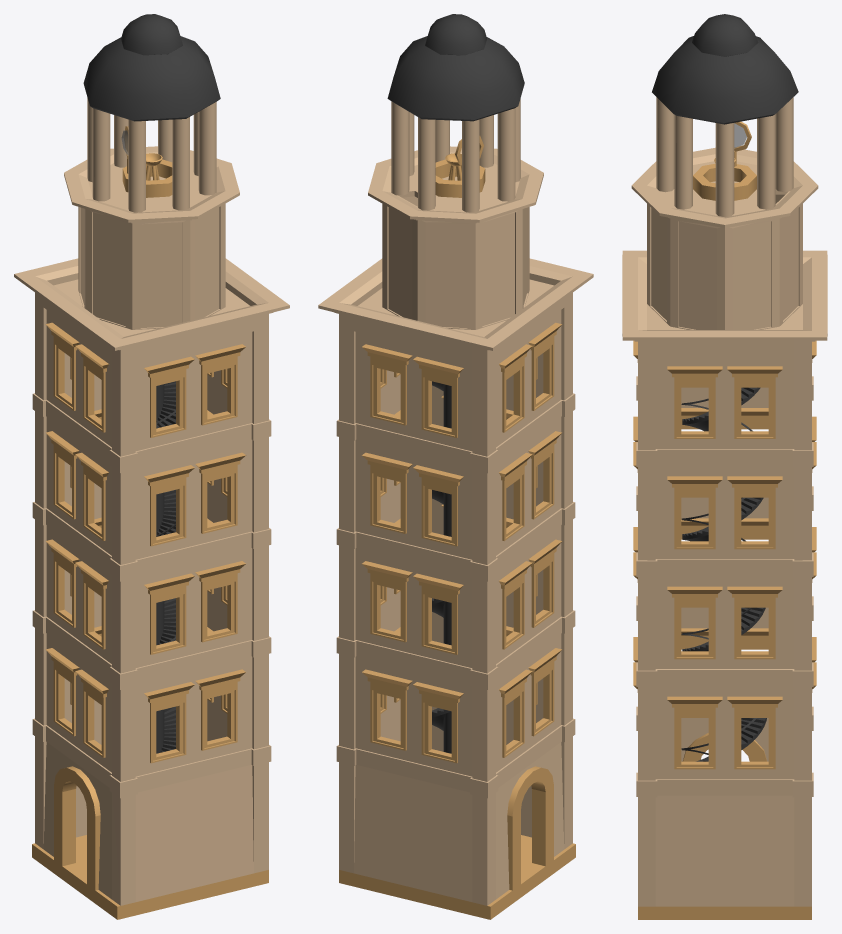
File: Phare2.FBX
3 renders of one model, left to right at view 1: azimuth 30°, elevation 25°; view 2: azimuth 150°, elevation 25°; view 3: azimuth 270°, elevation 25°, orthographic.
Visible parts, largest first — view 1: Bati00, Bati01, Toit00, Sol, Porte, Object001, Toit01, Fenetre024, Fenetre026, Fenetre030, Fenetre028, Fenetre027 (+18 smaller); view 2: Bati00, Bati01, Toit00, Sol, Porte, Object001, Toit01, Fenetre016, Fenetre022, Fenetre018, Fenetre019, Fenetre020 (+18 smaller); view 3: Bati00, Bati01, Toit00, Sol, Object001, Fenetre00, Fenetre001, Fenetre002, Fenetre003, Fenetre004, Fenetre005, Toit01 (+14 smaller).
Part boxes in pixels (bbox=[...]): Bati00: bbox=[14, 258, 289, 905]; Bati01: bbox=[64, 146, 239, 329]; Toit00: bbox=[83, 36, 220, 121]; Sol: bbox=[32, 835, 268, 919]; Porte: bbox=[54, 766, 100, 890]; Object001: bbox=[156, 381, 175, 753]; Toit01: bbox=[121, 14, 182, 55]; Fenetre024: bbox=[195, 669, 245, 750]; Fenetre026: bbox=[195, 561, 245, 642]; Fenetre030: bbox=[195, 344, 245, 425]; Fenetre028: bbox=[195, 452, 245, 533]; Fenetre027: bbox=[144, 573, 194, 654]; Bati00: bbox=[318, 258, 593, 905]; Bati01: bbox=[368, 146, 543, 329]; Toit00: bbox=[387, 36, 524, 121]; Sol: bbox=[339, 835, 575, 919]; Porte: bbox=[507, 766, 553, 890]; Object001: bbox=[432, 381, 451, 753]; Toit01: bbox=[425, 14, 486, 55]; Fenetre016: bbox=[362, 669, 412, 750]; Fenetre022: bbox=[362, 344, 412, 425]; Fenetre018: bbox=[362, 561, 412, 642]; Fenetre019: bbox=[413, 573, 463, 654]; Fenetre020: bbox=[362, 452, 412, 533]; Bati00: bbox=[622, 250, 827, 906]; Bati01: bbox=[631, 147, 818, 329]; Toit00: bbox=[652, 36, 798, 124]; Sol: bbox=[638, 906, 811, 919]; Object001: bbox=[682, 387, 766, 761]; Fenetre00: bbox=[667, 696, 722, 769]; Fenetre001: bbox=[727, 696, 782, 769]; Fenetre002: bbox=[667, 586, 722, 659]; Fenetre003: bbox=[727, 586, 782, 659]; Fenetre004: bbox=[667, 476, 722, 549]; Fenetre005: bbox=[727, 476, 782, 549]; Toit01: bbox=[692, 14, 758, 56].
Bounding box in the file's own units: 1182 × 5506 × 1182.
